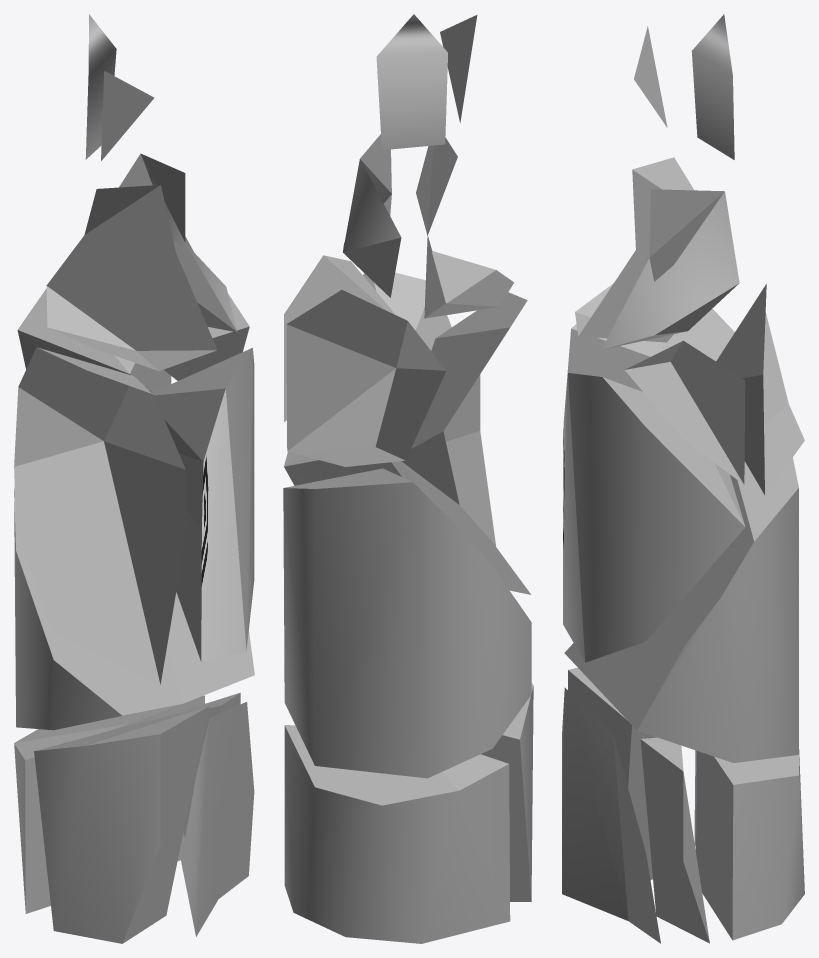
3 renders of one model, left to right at view 1: azimuth 30°, elevation 25°; view 2: azimuth 150°, elevation 25°; view 3: azimuth 270°, elevation 25°, orthographic. The views are drawn at different scales.
Parts seen in each view (by area): view 1: pCylinder2_cell.021, pCylinder2_cell.017, pCylinder2_cell.022, pCylinder2_cell.006, pCylinder2_cell.020, pCylinder2_cell.002, pCylinder2_cell.018, pCylinder2_cell.004, pCylinder2_cell.016, pCylinder2_cell.001, pCylinder2_cell, pCylinder2_cell.023 (+1 smaller); view 2: pCylinder2_cell.020, pCylinder2_cell.018, pCylinder2_cell.016, pCylinder2_cell.021, pCylinder2_cell.001, pCylinder2_cell.006, pCylinder2_cell.004, pCylinder2_cell.017, pCylinder2_cell.022, pCylinder2_cell.023, pCylinder2_cell; view 3: pCylinder2_cell.022, pCylinder2_cell.020, pCylinder2_cell.018, pCylinder2_cell.002, pCylinder2_cell.004, pCylinder2_cell.023, pCylinder2_cell.008, pCylinder2_cell.016, pCylinder2_cell.006, pCylinder2_cell.021, pCylinder2_cell.001, pCylinder2_cell.017 (+1 smaller).
Part boxes in pixels (box(x1,y1,x2,y2)): pCylinder2_cell.021: box(14, 347, 185, 684); pCylinder2_cell.017: box(34, 706, 209, 943); pCylinder2_cell.022: box(152, 347, 254, 662); pCylinder2_cell.006: box(46, 185, 217, 370); pCylinder2_cell.020: box(14, 488, 254, 730); pCylinder2_cell.002: box(181, 702, 254, 936); pCylinder2_cell.018: box(14, 695, 204, 913); pCylinder2_cell.004: box(119, 153, 237, 332); pCylinder2_cell.016: box(17, 288, 171, 392); pCylinder2_cell.001: box(85, 14, 116, 159); pCylinder2_cell: box(101, 71, 154, 160); pCylinder2_cell.023: box(164, 294, 249, 380); pCylinder2_cell.020: box(283, 468, 531, 778); pCylinder2_cell.018: box(284, 725, 510, 943); pCylinder2_cell.016: box(286, 290, 445, 466); pCylinder2_cell.021: box(399, 292, 531, 594); pCylinder2_cell.001: box(376, 14, 447, 150); pCylinder2_cell.006: box(416, 137, 513, 318); pCylinder2_cell.004: box(343, 134, 401, 297); pCylinder2_cell.017: box(481, 683, 533, 901); pCylinder2_cell.022: box(284, 272, 451, 496); pCylinder2_cell.023: box(284, 255, 395, 421); pCylinder2_cell: box(440, 15, 477, 122); pCylinder2_cell.022: box(563, 373, 745, 662); pCylinder2_cell.020: box(564, 457, 798, 762); pCylinder2_cell.018: box(694, 749, 804, 940); pCylinder2_cell.002: box(562, 687, 660, 943); pCylinder2_cell.004: box(601, 189, 739, 349); pCylinder2_cell.023: box(625, 340, 745, 484); pCylinder2_cell.008: box(640, 737, 709, 943); pCylinder2_cell.016: box(716, 284, 804, 495); pCylinder2_cell.006: box(575, 157, 693, 342); pCylinder2_cell.021: box(563, 308, 734, 421); pCylinder2_cell.001: box(691, 14, 734, 159); pCylinder2_cell.017: box(568, 667, 656, 880).
Size of the model in its own units: 1.99 by 7.88 by 2.
